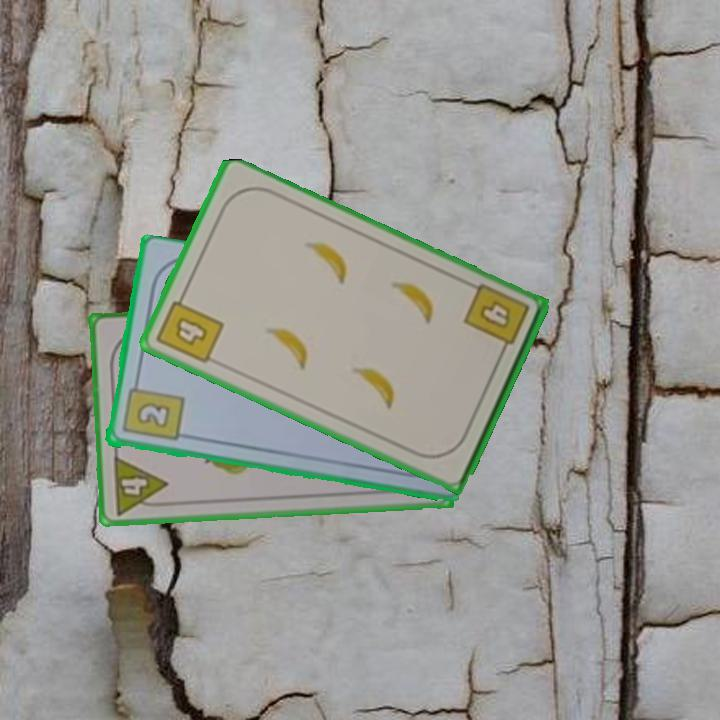2b: (118, 375, 186, 445)
4b: (152, 288, 227, 367), (460, 280, 532, 360)
4p: (109, 452, 171, 518)
